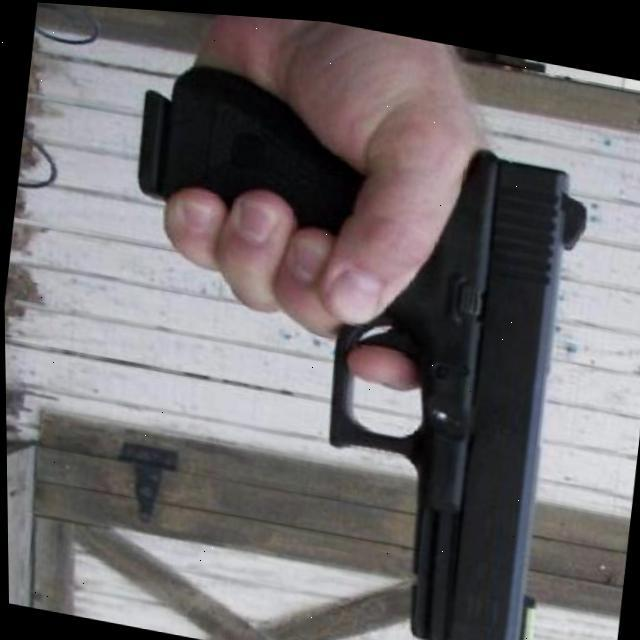gun: (82, 47, 599, 640)
